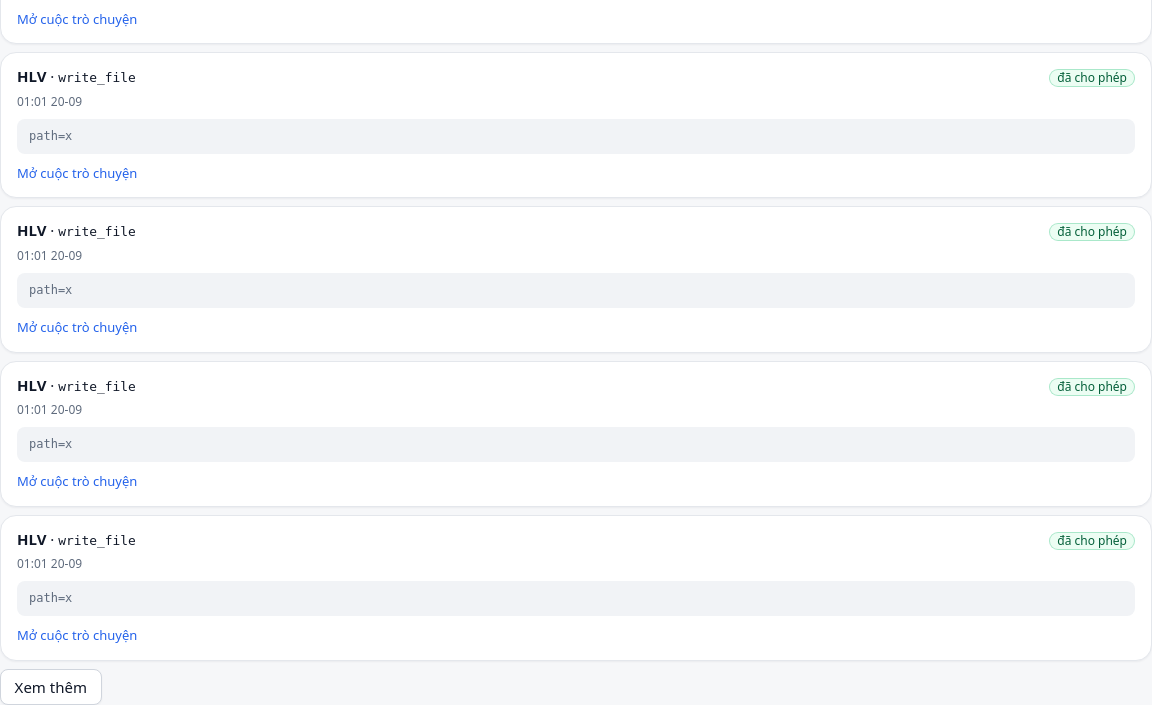
Test: ApprovalHistory › fetches a bigger page on 'Xem thêm' until the server runs out or its ceiling is hit
(page scrolled)
What coordinates should you click on to do the following:
click the button "Xem thêm"
I would click on:
 (51, 687)
Its box is [0, 669, 102, 704].
(page scrolled)
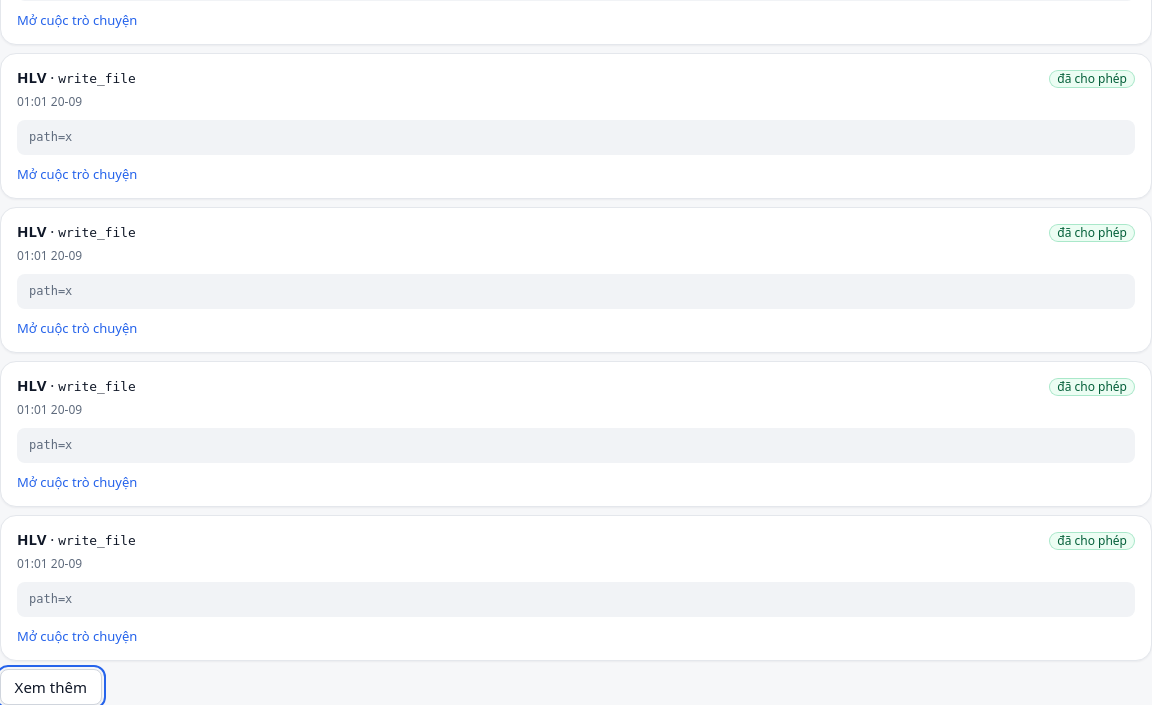
What coordinates should you click on to do the following:
click the button "Xem thêm"
I would click on:
 (51, 687)
Its box is [0, 669, 102, 704].
(page scrolled)
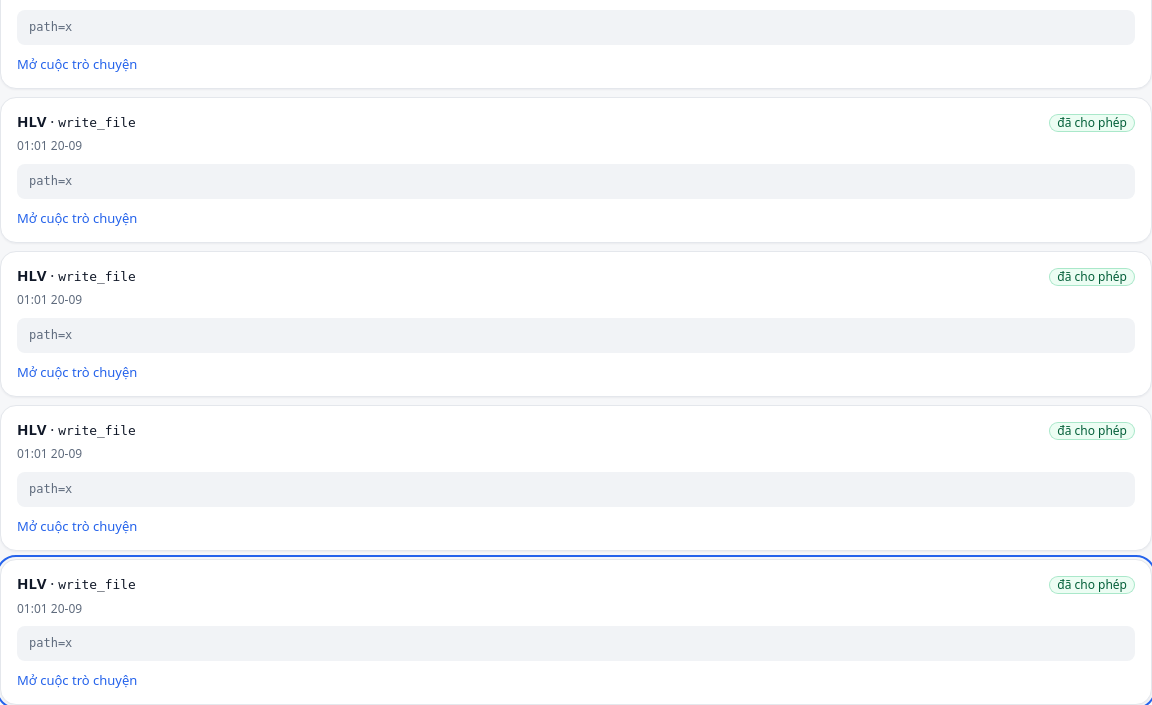
Now the button "Xem thêm" is gone
